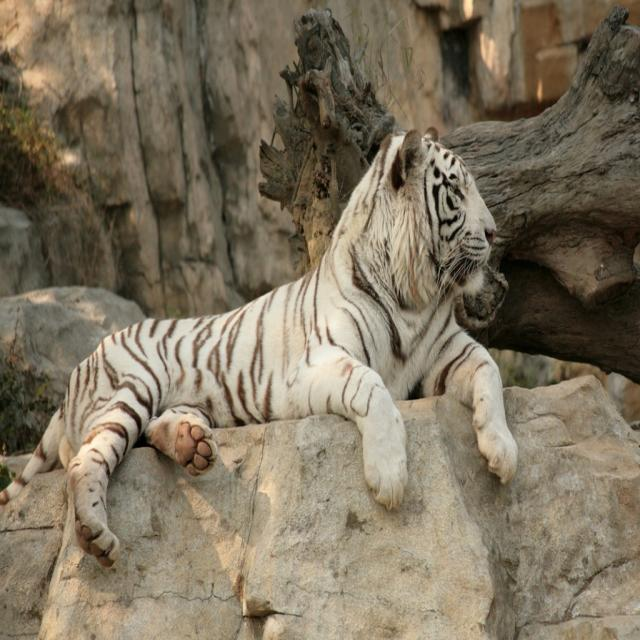Tiger: (0, 129, 516, 567)
